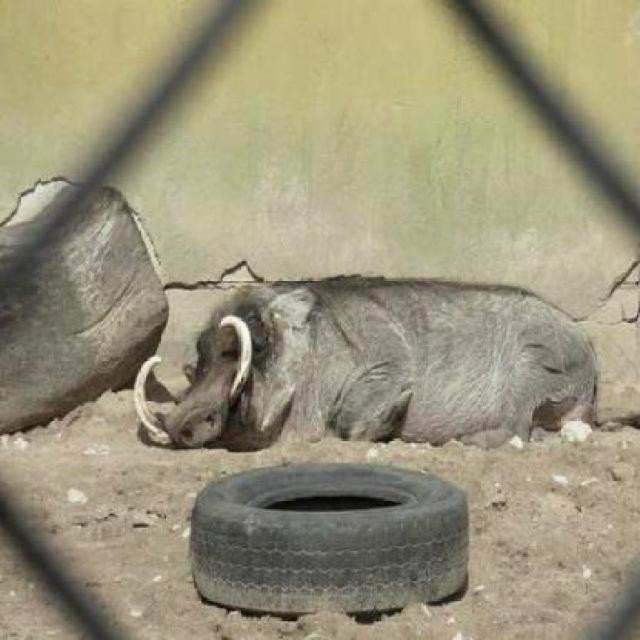Boar: (145, 255, 597, 456)
